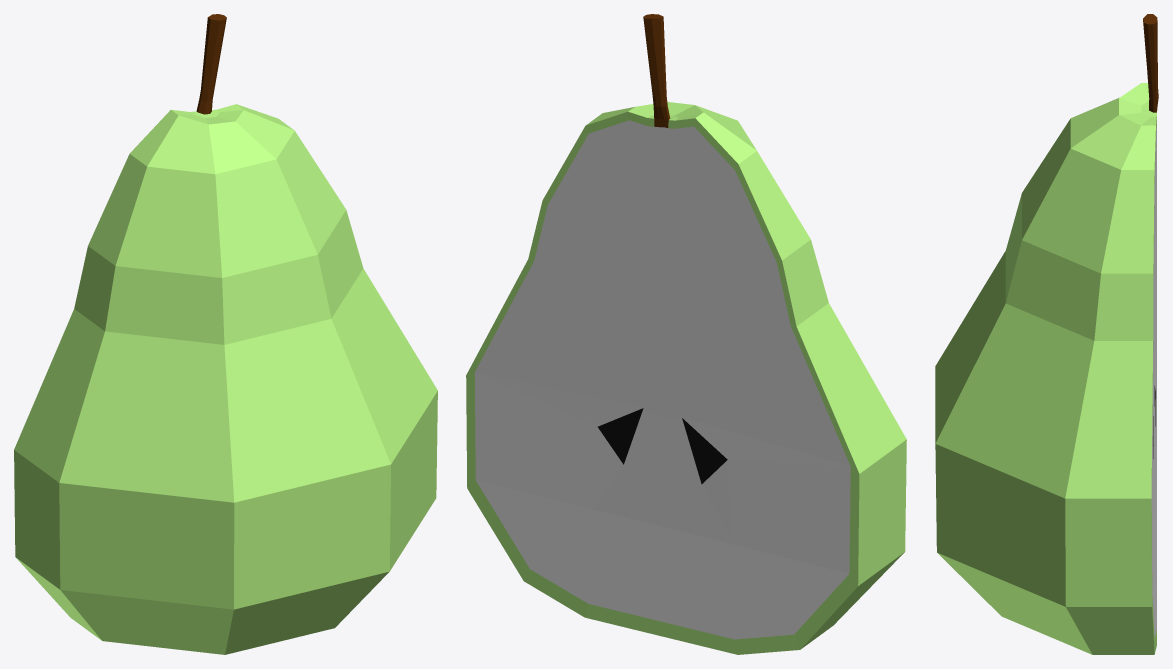
Rendered from pear02.gltf.
3 renders of one model, left to right at view 1: azimuth 30°, elevation 25°; view 2: azimuth 150°, elevation 25°; view 3: azimuth 270°, elevation 25°, orthographic. The views are drawn at different scales.
Visible parts, largest first — view 1: Cylinder; view 2: Cylinder; view 3: Cylinder.
Part boxes in pixels (left/top/right/bottom): Cylinder: left=14, top=14, right=437, bottom=654; Cylinder: left=466, top=14, right=906, bottom=654; Cylinder: left=935, top=14, right=1158, bottom=654.
Size of the model in its own units: 0.0646 by 0.0959 by 0.0325.
1 material, 1 textured.
